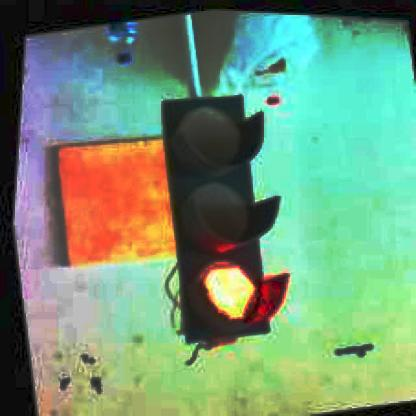Traffic Light -Red-: (145, 85, 302, 344)
